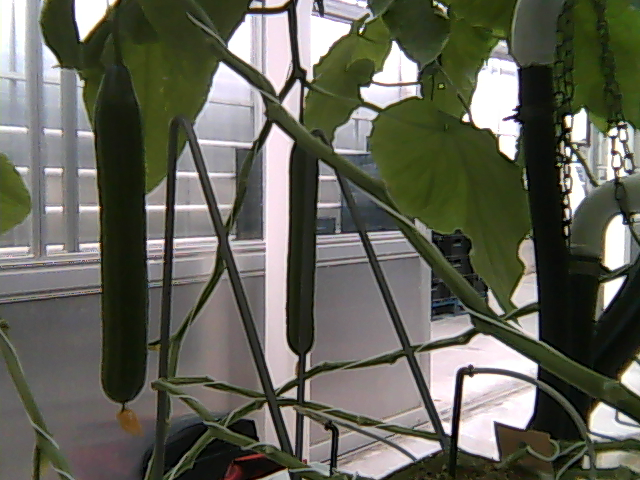concombre: (91, 57, 153, 440)
